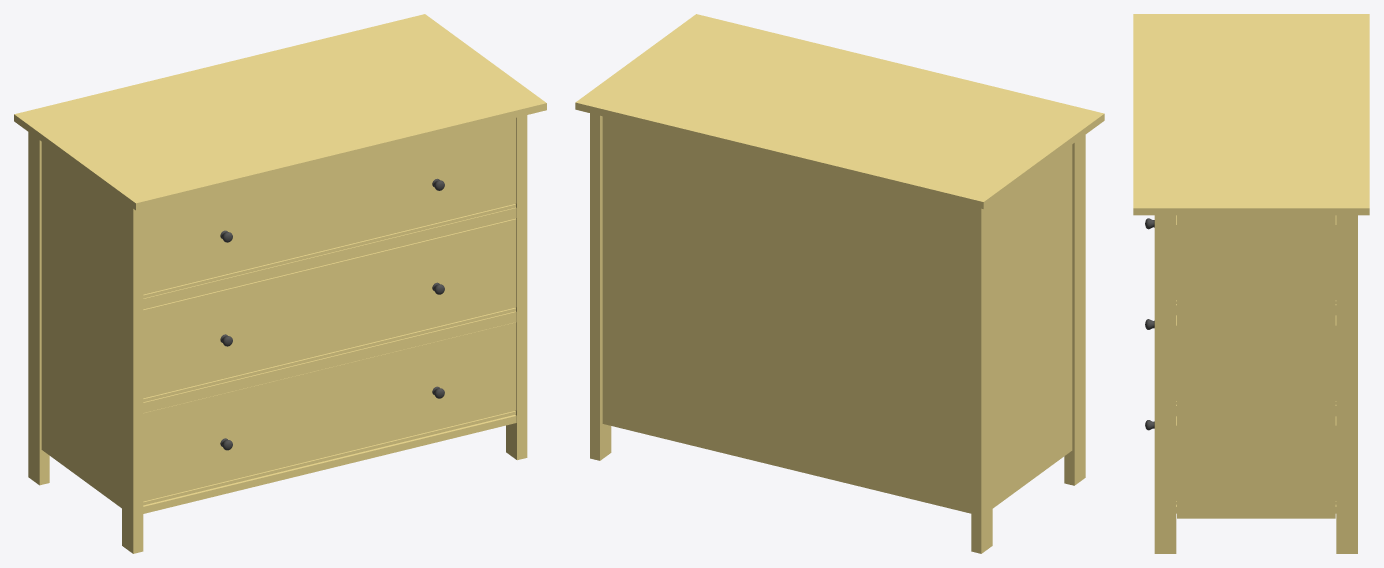
File: IKEA-Hemnes_Chest_of_3_drawers-3D.obj
3 renders of one model, left to right at view 1: azimuth 30°, elevation 25°; view 2: azimuth 150°, elevation 25°; view 3: azimuth 270°, elevation 25°, orthographic. The views are drawn at different scales.
Visible parts, largest first — view 1: Box08, Object04, Cylinder02; view 2: Box08; view 3: Box08, Object04.
Boxes of the visible parts, bbox=[...] form: Box08: bbox=[14, 14, 546, 553]; Object04: bbox=[143, 118, 516, 505]; Cylinder02: bbox=[220, 178, 444, 450]; Box08: bbox=[575, 14, 1104, 553]; Box08: bbox=[1133, 14, 1369, 553]; Object04: bbox=[1176, 215, 1336, 504].
Size of the model in its own units: 2943 by 2467 by 1511.
